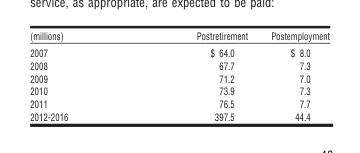table: (29, 28, 329, 122)
table column: (131, 28, 258, 122), (29, 28, 131, 122), (258, 28, 329, 122)
table column header: (29, 28, 329, 43)
table row: (29, 43, 329, 59), (29, 28, 329, 43), (29, 71, 329, 84), (29, 96, 329, 109), (29, 109, 329, 122), (29, 59, 329, 71), (29, 84, 329, 96)
